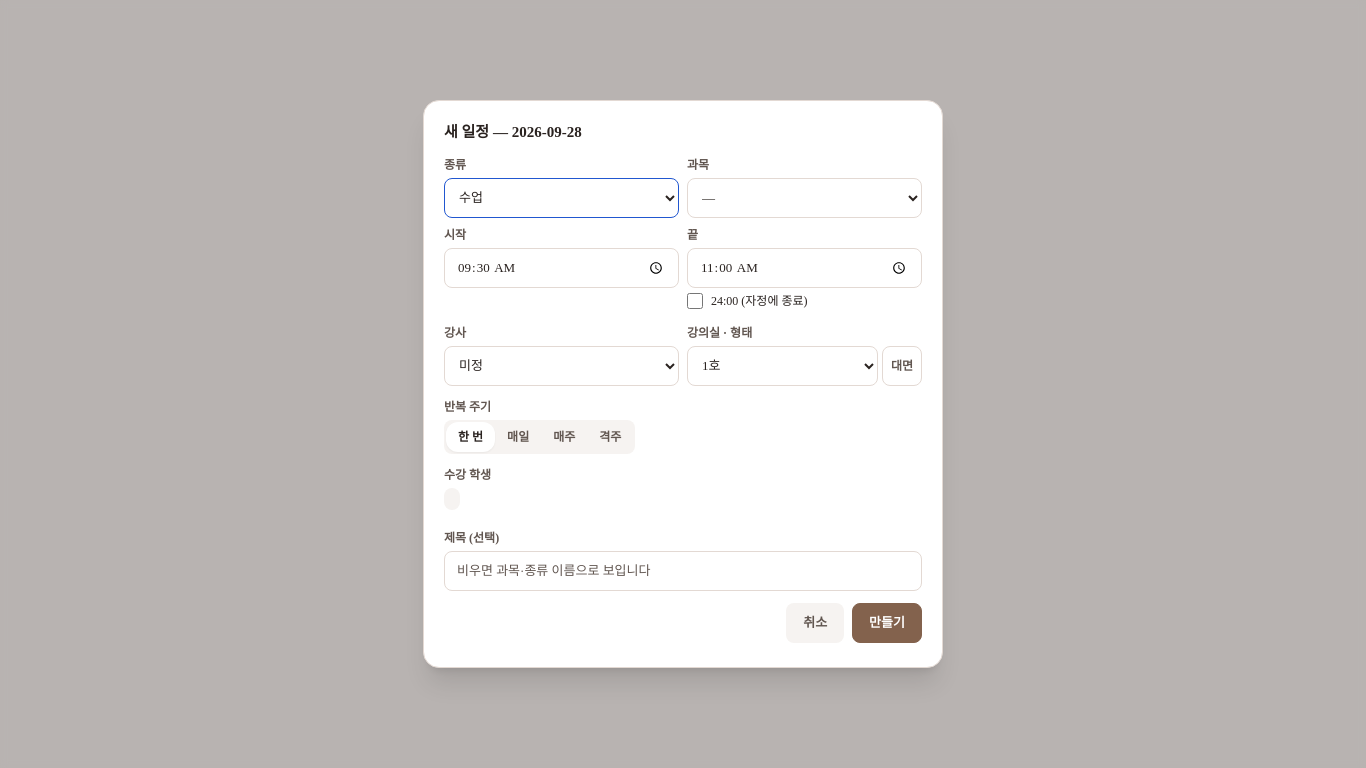
설명을 못 가져와도 원래 문구는 남는다 — 실패가 실패를 덮지 않는다
This screenshot has width=1366, height=768.
Step 1. Click the button "만들기" → (887, 623), box [852, 603, 922, 643]
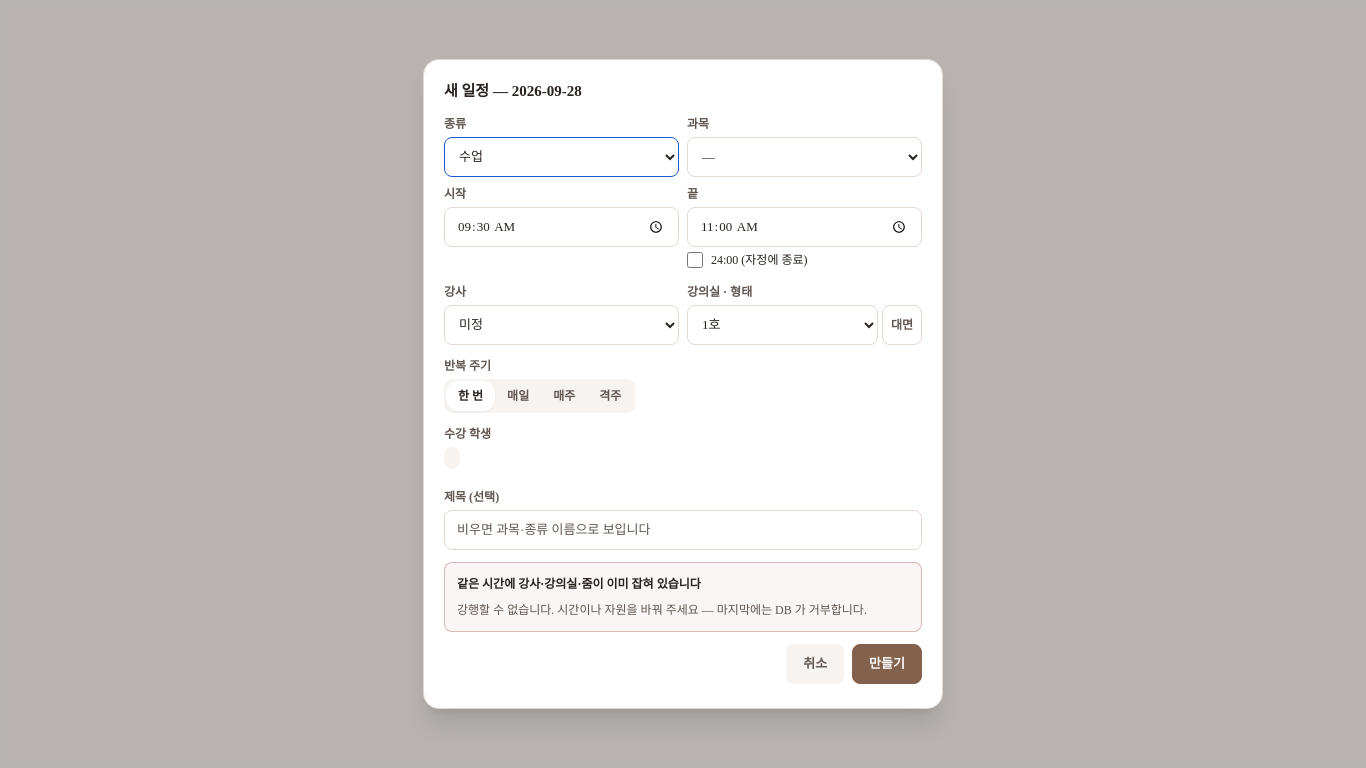
Result: the text "같은 시간에 강사·강의실·줌이 이미 잡혀 있습니다" is shown at [457, 577, 701, 591]
